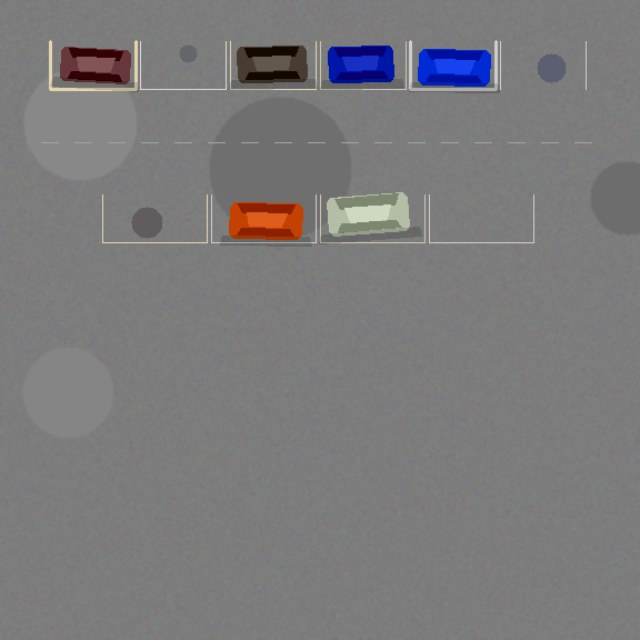space-empty: (102, 194, 207, 242), (429, 194, 533, 242), (140, 41, 226, 89), (500, 41, 586, 89)
space-occupied: (211, 194, 316, 242), (320, 194, 424, 242), (50, 41, 136, 89), (230, 41, 316, 89), (320, 41, 406, 89), (410, 41, 496, 89)
